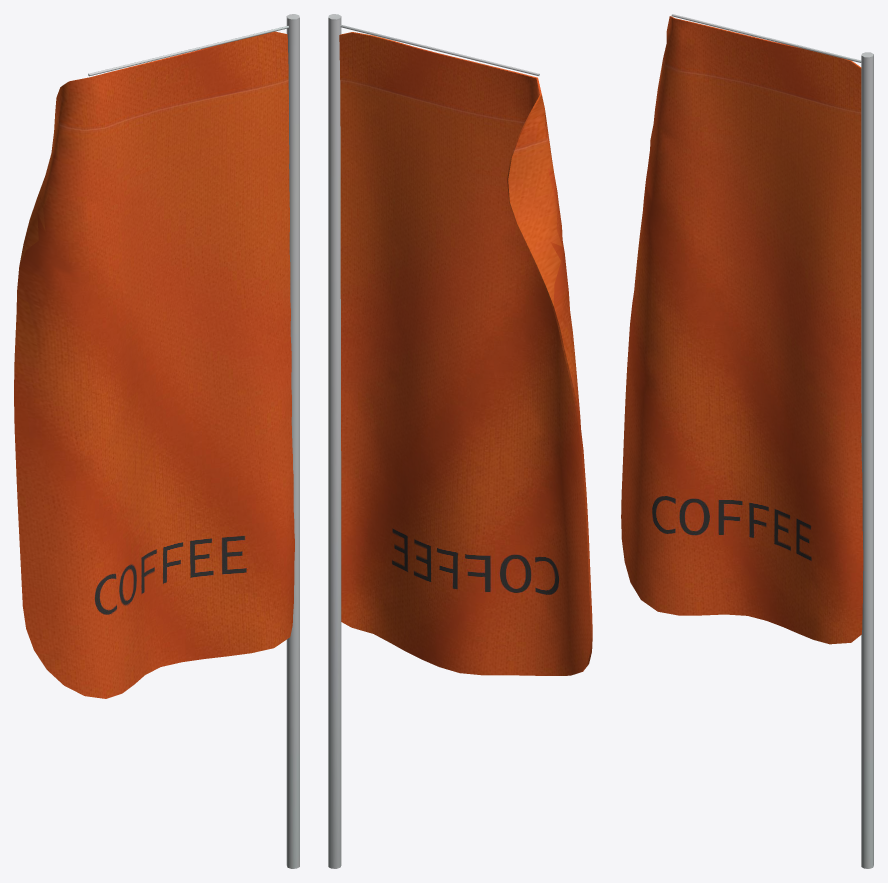
Rendered from coffee_flag_new.FBX.
3 views of the same model, side by side, from view 1: azimuth 30°, elevation 25°; view 2: azimuth 150°, elevation 25°; view 3: azimuth 330°, elevation 25° (orthographic). The views are drawn at different scales.
Visible parts, largest first — view 1: Rectangle001, Cylinder001, Cylinder002; view 2: Rectangle001, Cylinder001, Cylinder002; view 3: Rectangle001, Cylinder001, Cylinder002.
Part boxes in pixels (x1=…): Rectangle001: x1=14, y1=31, x2=294, y2=698; Cylinder001: x1=286, y1=14, x2=299, y2=868; Cylinder002: x1=88, y1=26, x2=288, y2=76; Rectangle001: x1=339, y1=32, x2=592, y2=675; Cylinder001: x1=328, y1=14, x2=341, y2=868; Cylinder002: x1=340, y1=24, x2=539, y2=75; Rectangle001: x1=621, y1=16, x2=863, y2=644; Cylinder001: x1=861, y1=52, x2=873, y2=868; Cylinder002: x1=671, y1=14, x2=861, y2=62.
Size of the model in its own units: 17.99 by 54.01 by 5.71.
2 materials, 2 textured.
